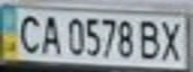0: (63, 14, 84, 56)
5: (81, 15, 103, 57)
7: (100, 16, 118, 58)
8: (115, 16, 139, 60)
A: (36, 11, 63, 55)
B: (136, 17, 163, 61)
C: (12, 11, 45, 55)
X: (157, 17, 187, 62)
